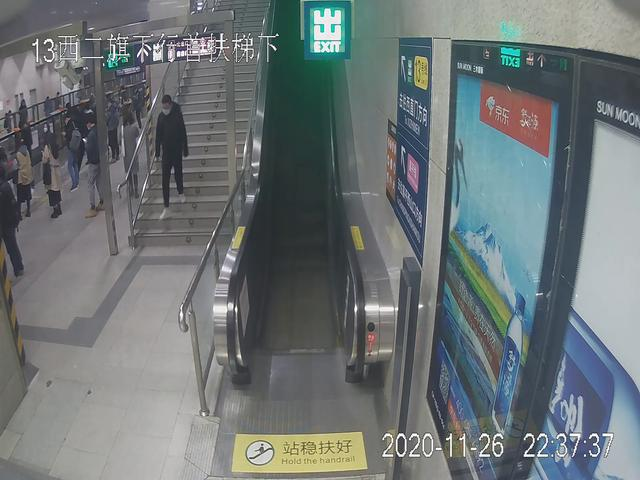person: (152, 90, 186, 217), (38, 130, 68, 219), (79, 117, 101, 222), (12, 133, 37, 220), (120, 109, 139, 200)
